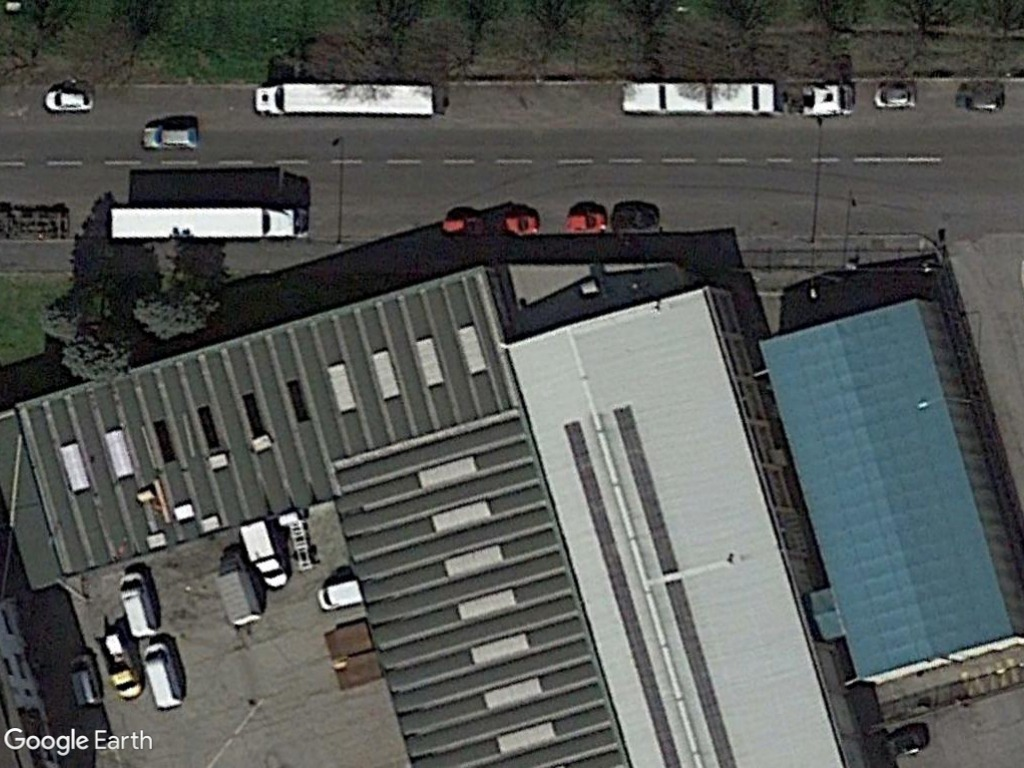car: (139, 121, 202, 153), (42, 85, 99, 113), (870, 82, 921, 111), (560, 207, 612, 235)
longvehicle: (618, 78, 861, 119), (104, 200, 315, 246), (250, 79, 443, 121)
truck: (236, 520, 291, 592), (216, 551, 264, 630), (67, 652, 107, 709)
van: (114, 569, 165, 639), (142, 641, 185, 711), (313, 576, 369, 614)
